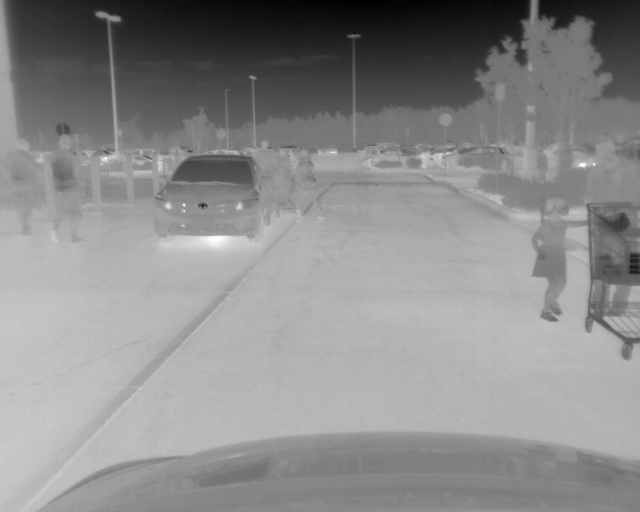car: (154, 156, 268, 242), (443, 147, 511, 171), (372, 148, 434, 169)
people: (584, 134, 640, 317), (530, 197, 597, 325), (50, 135, 87, 244), (5, 139, 43, 237), (296, 149, 327, 220), (273, 148, 297, 218), (254, 140, 273, 223), (557, 142, 573, 177), (536, 148, 547, 183)
